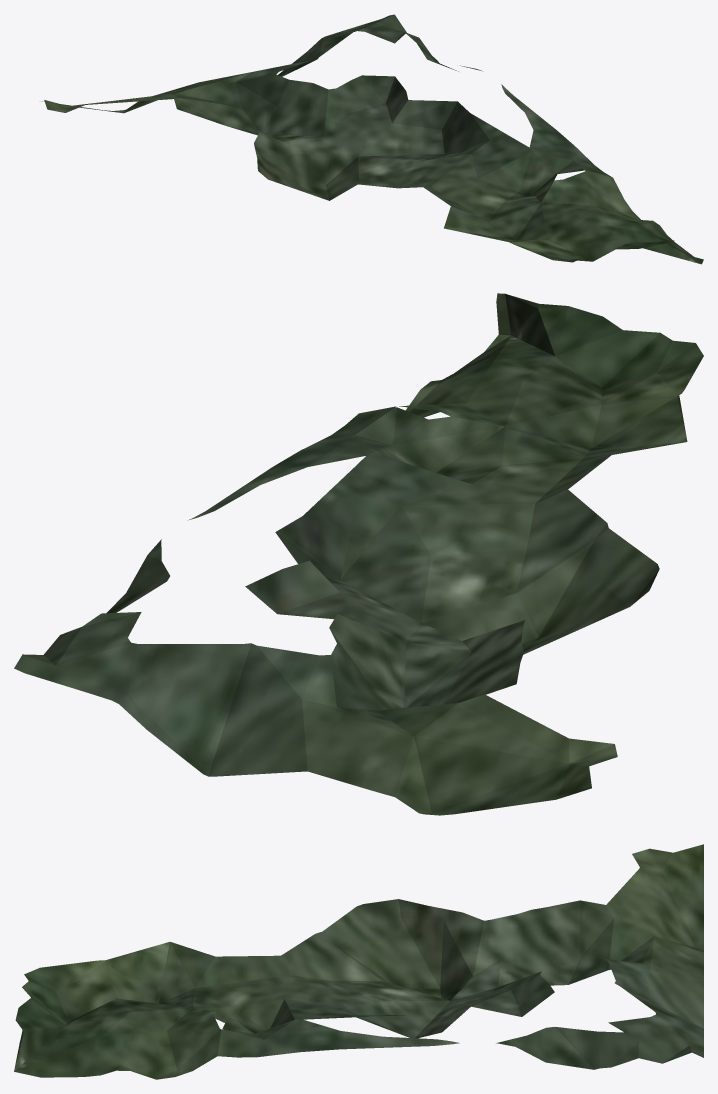
The picture shows the model from 3 angles, top to bottom: view 1: azimuth 30°, elevation 25°; view 2: azimuth 150°, elevation 25°; view 3: azimuth 270°, elevation 25°; orthographic projection. The views are drawn at different scales.
Size of the model in its own units: 2.61 by 0.3537 by 3.83.
Materials: 1 (1 with a texture image).
